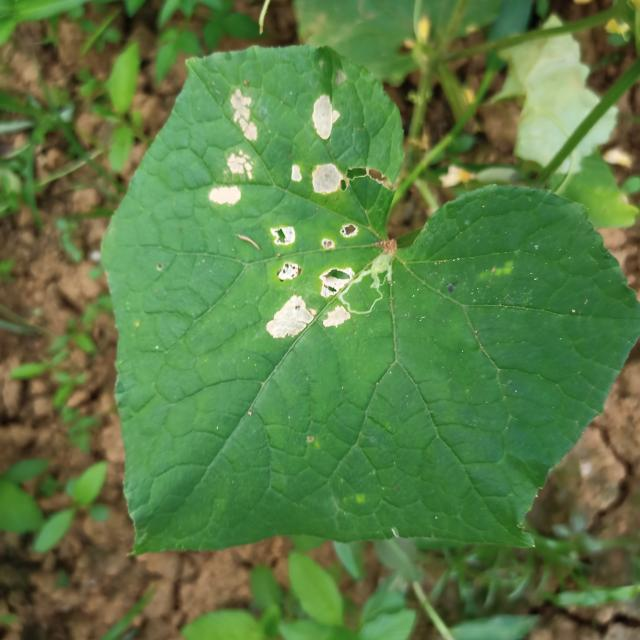disease_cucumber: (268, 95, 352, 336), (210, 90, 258, 206)
